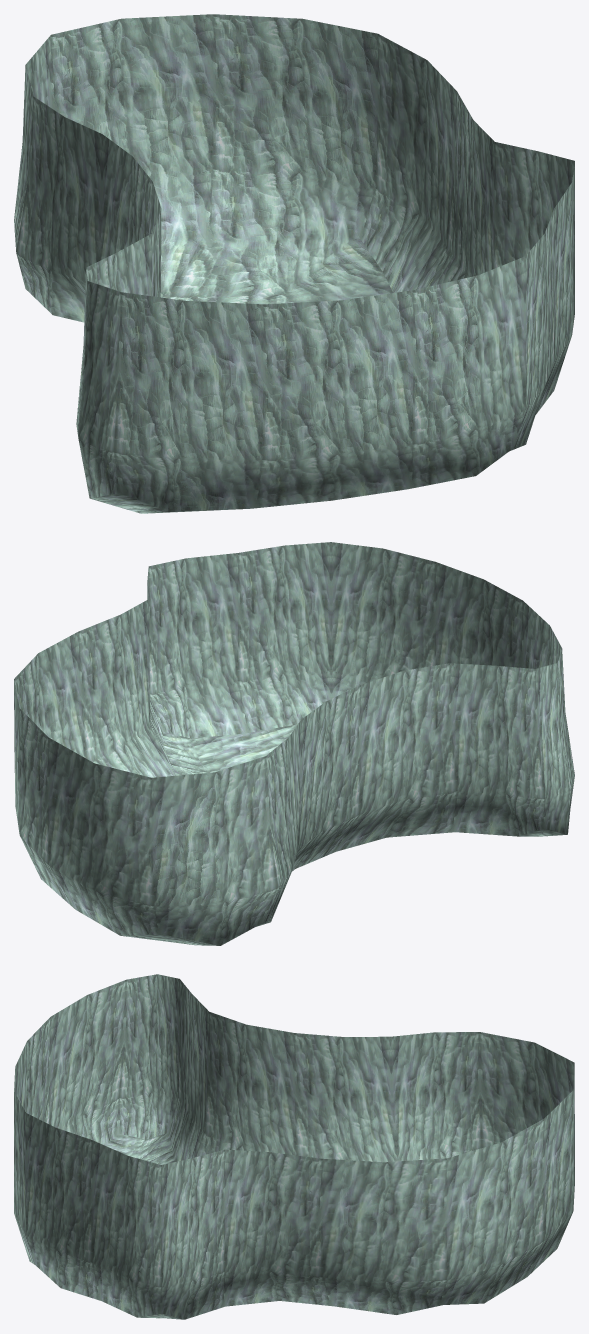
File: TROLLHOLE02_PS-SECRETCAVE02.fbx
The picture shows the model from 3 angles, top to bottom: view 1: azimuth 30°, elevation 25°; view 2: azimuth 150°, elevation 25°; view 3: azimuth 270°, elevation 25°; orthographic projection. The views are drawn at different scales.
Visible parts, largest first — view 1: TROLLHOLE02_PS-SECRETCAVE02; view 2: TROLLHOLE02_PS-SECRETCAVE02; view 3: TROLLHOLE02_PS-SECRETCAVE02.
Boxes of the visible parts, left/top/right/bottom form: TROLLHOLE02_PS-SECRETCAVE02: left=14, top=14, right=574, bottom=513; TROLLHOLE02_PS-SECRETCAVE02: left=14, top=542, right=574, bottom=945; TROLLHOLE02_PS-SECRETCAVE02: left=14, top=974, right=574, bottom=1319.
Size of the model in its own units: 365122 by 160365 by 445139.
1 material, 1 textured.
